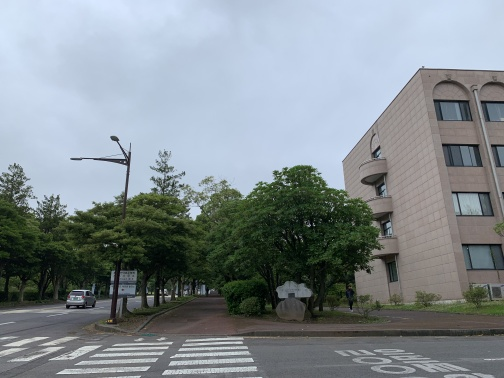Natural Science2: (333, 59, 502, 311)
